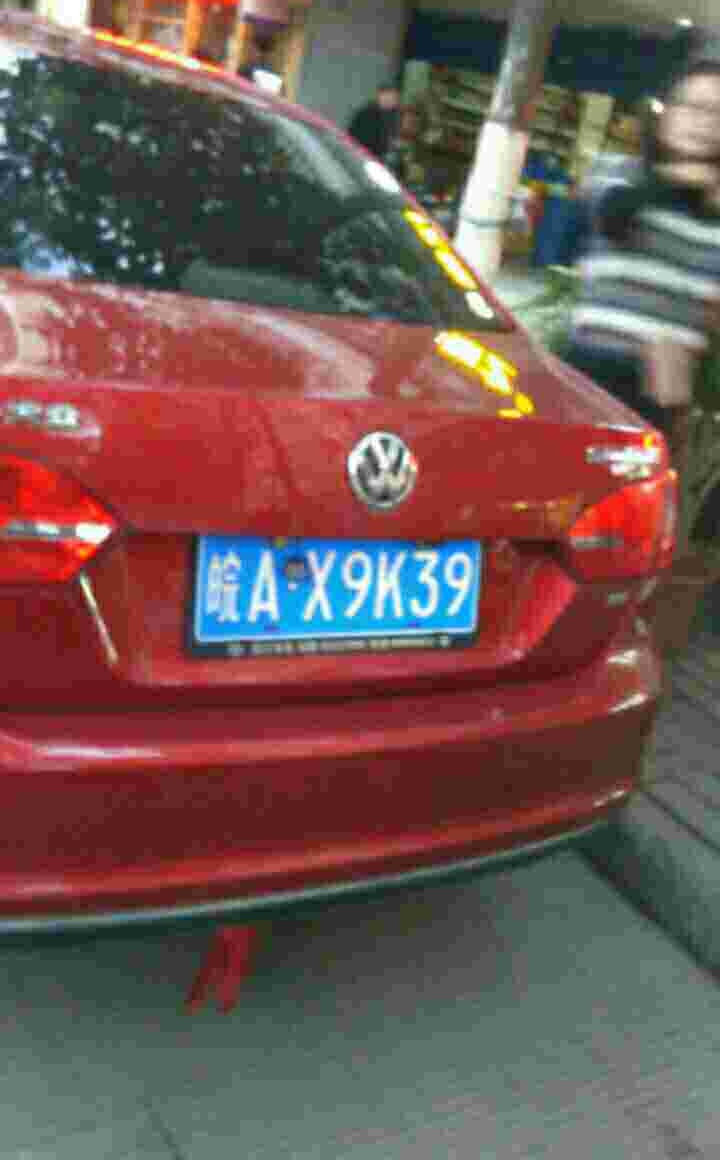license_plate: (191, 534, 476, 641)
